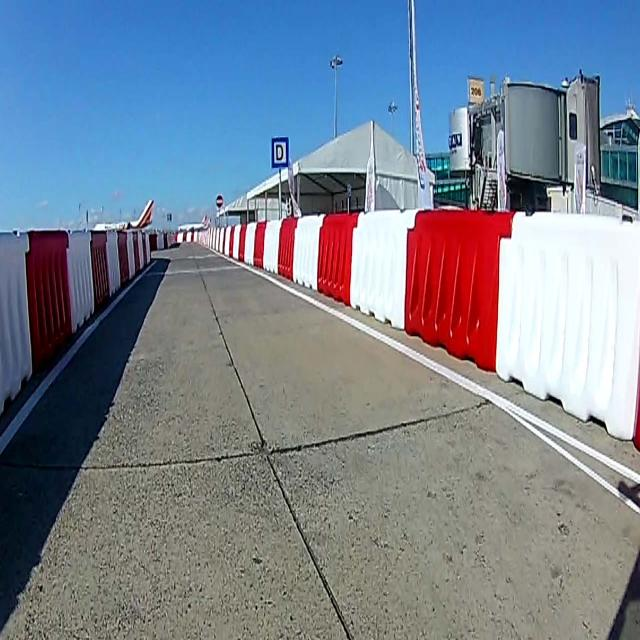durak: (271, 137, 289, 171)
girisyok: (215, 192, 224, 210)
